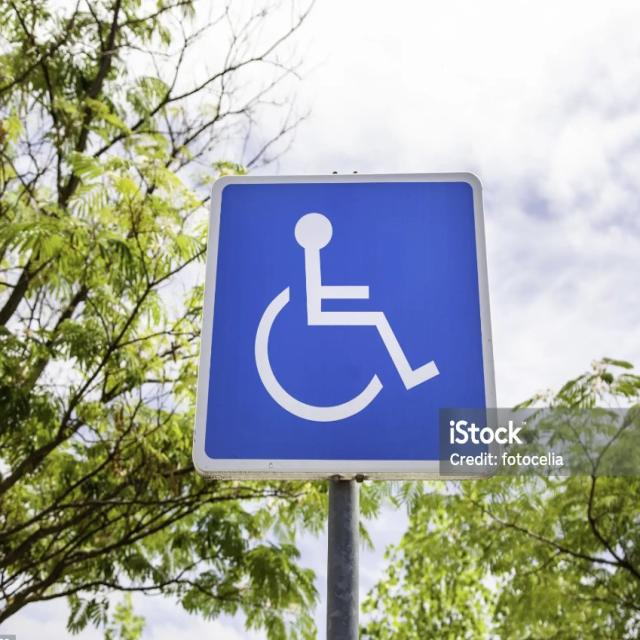symbol_of_access: (192, 170, 499, 480)
